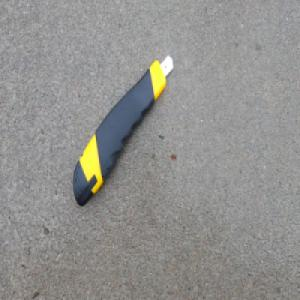Cutter: (72, 52, 174, 207)
